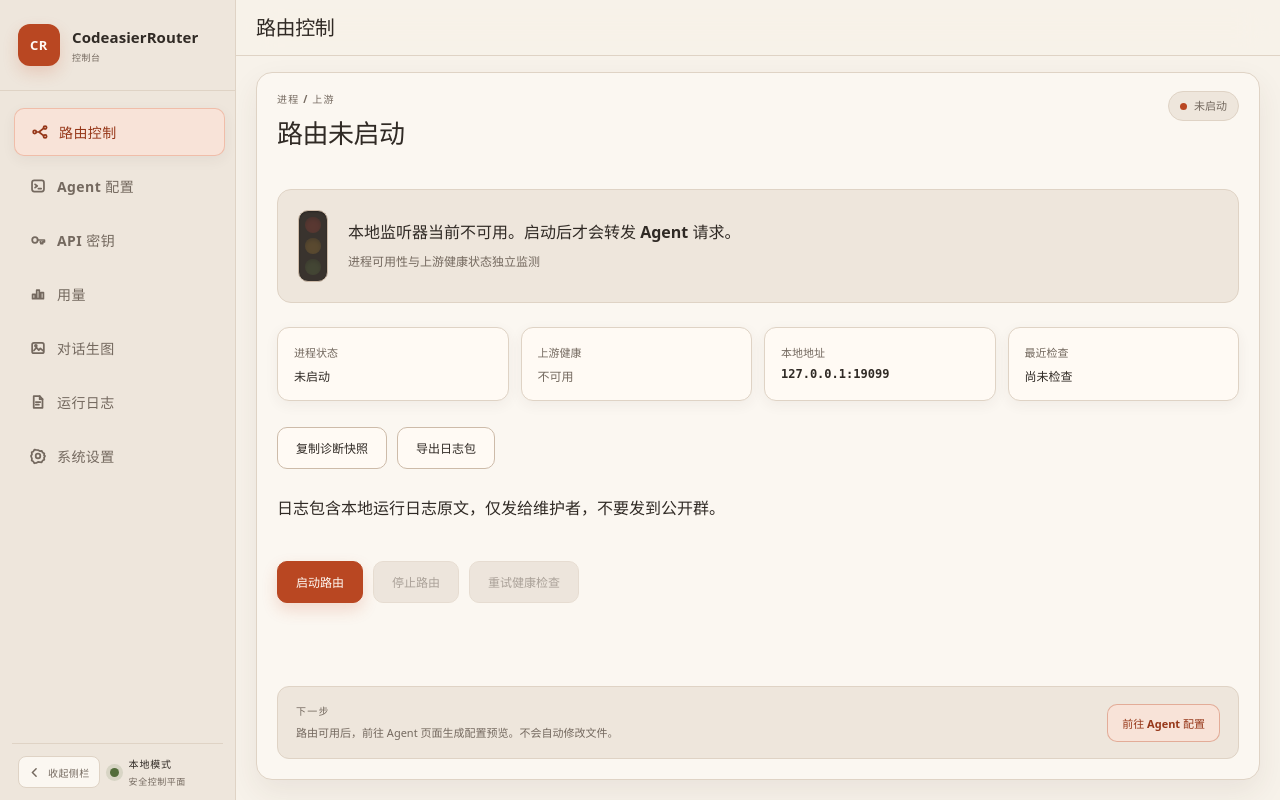
Test: App navigation › keeps Settings available after Agent navigation is integrated
Expected: the heading "路由未启动" is shown, [277,113,404,151]
Step 1. Click the button "系统设置" → [118, 456], box [12,432,223,480]
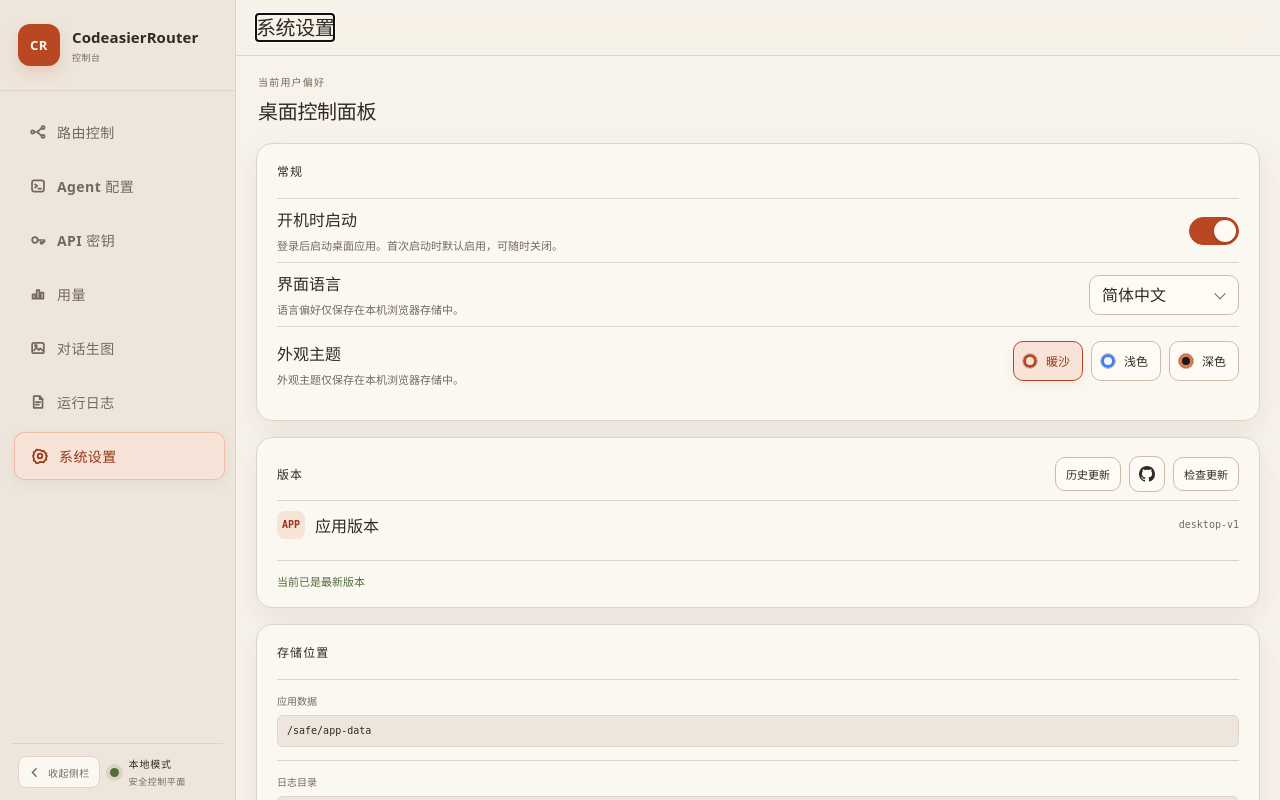
Now the heading "系统设置" is shown, box [256,16,334,39]
Now the heading "桌面控制面板" is shown, box [258,98,376,125]
